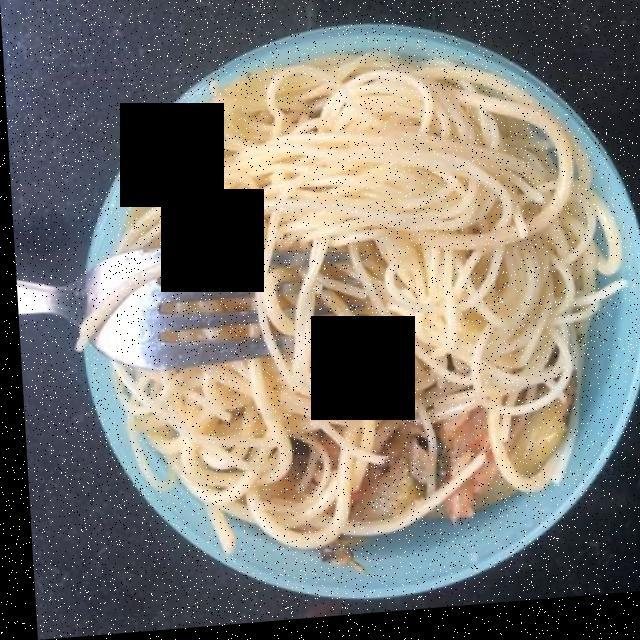pasta: (68, 63, 604, 547)
ratatouille: (340, 416, 552, 566)
